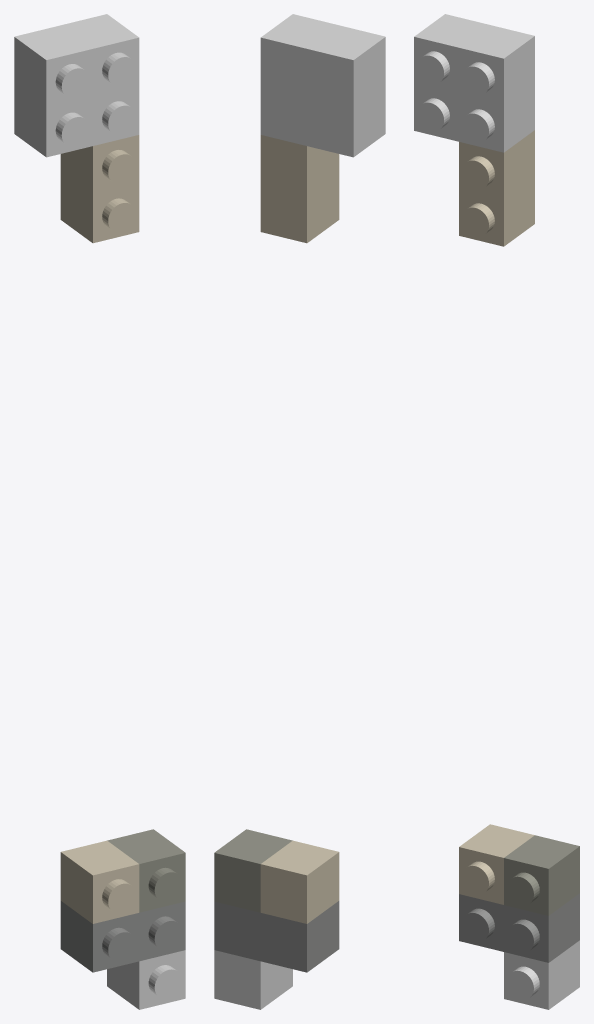
Rendered from current.glb.
The picture shows the model from 3 angles, left to right: view 1: azimuth 30°, elevation 25°; view 2: azimuth 150°, elevation 25°; view 3: azimuth 330°, elevation 25°; orthographic projection. The views are drawn at different scales.
Visible parts, largest first — view 1: world; view 2: world; view 3: world.
Part boxes in pixels (x1,y1,x2,y2): world: (14, 14, 185, 1009); world: (214, 14, 385, 1009); world: (414, 14, 579, 1009).
Size of the model in its own units: 24 by 160 by 11.4.
